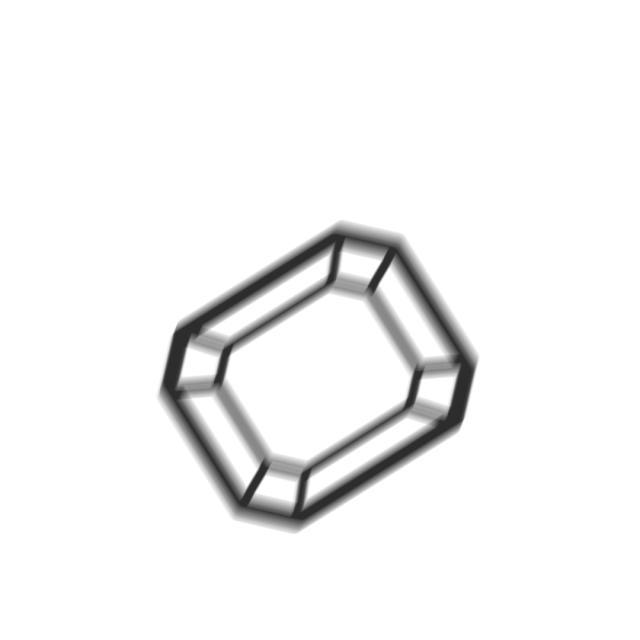emerald: (151, 219, 484, 539)
